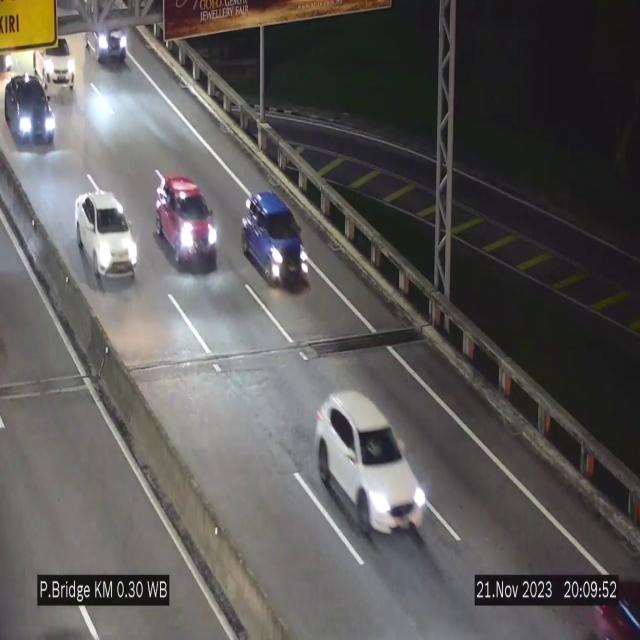Car: (316, 392, 426, 534), (75, 190, 137, 288), (156, 175, 218, 269), (242, 190, 304, 282), (5, 70, 57, 151), (31, 31, 76, 96), (84, 14, 131, 70)
